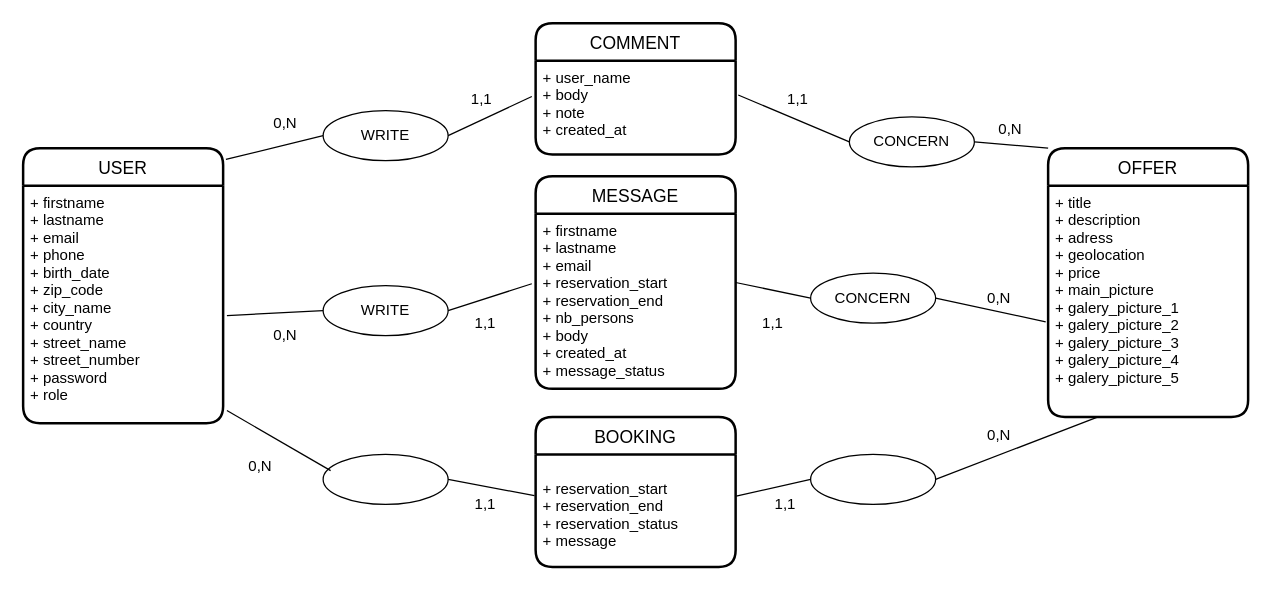
The diagram is 1270 pixels wide and 589 high, and some of its shapes have lost their labels. Each missing label, with the centre of its shape:
"ASSOCIATE" goes at [872,478].
"CREATE" goes at [385,478].
